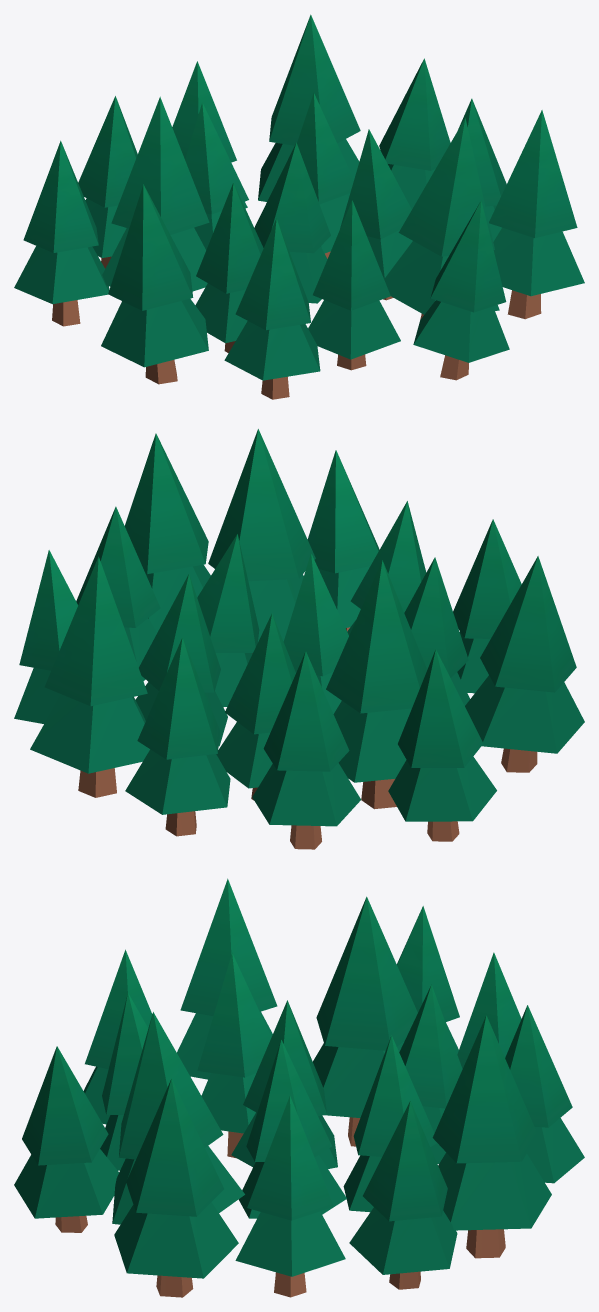
The model's file is trees_a.glb.
3 views of the same model, one above another, from view 1: azimuth 30°, elevation 25°; view 2: azimuth 150°, elevation 25°; view 3: azimuth 270°, elevation 25° (orthographic). The views are drawn at different scales.
Parts seen in each view (by area): view 1: trees_A_large; view 2: trees_A_large; view 3: trees_A_large.
Part boxes in pixels (<box>): trees_A_large: <box>14,14,584,399</box>; trees_A_large: <box>14,429,584,849</box>; trees_A_large: <box>14,878,584,1297</box>.
Bounding box in the file's own units: 1.95 × 0.9265 × 1.97.
1 material, 1 textured.
